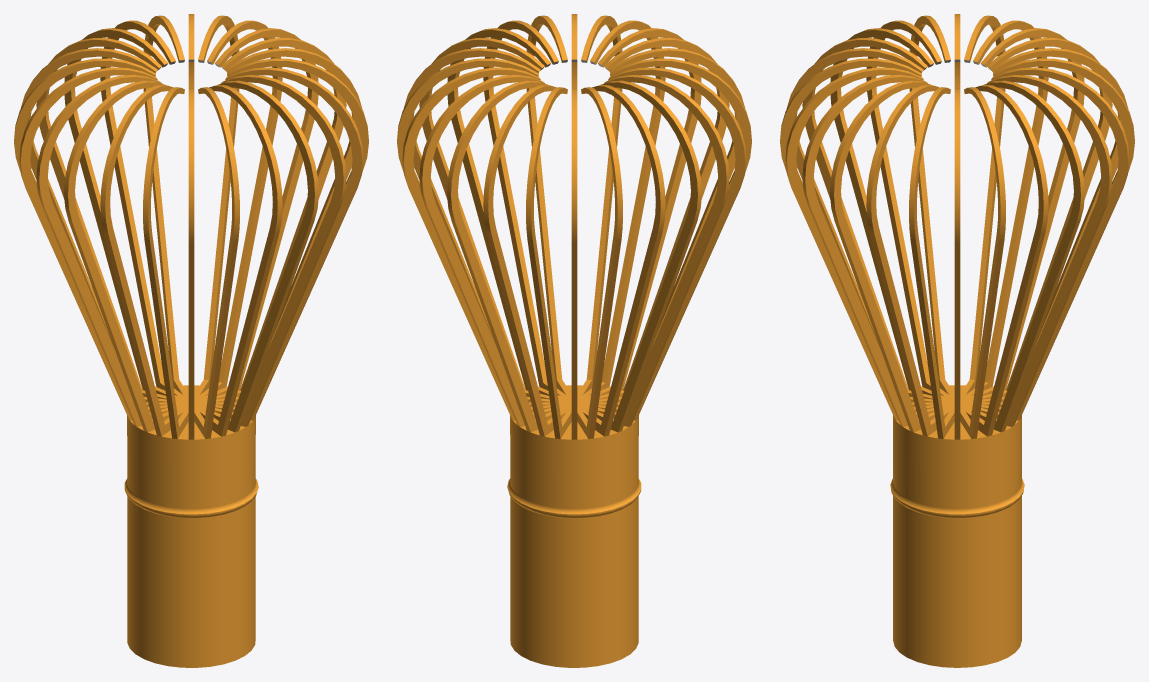
3 renders of one model, left to right at view 1: azimuth 30°, elevation 25°; view 2: azimuth 150°, elevation 25°; view 3: azimuth 270°, elevation 25°, orthographic.
Parts seen in each view (by area): view 1: ソリッド1; view 2: ソリッド1; view 3: ソリッド1.
Part boxes in pixels (x1,y1,x2,y2): ソリッド1: (14,14,368,667); ソリッド1: (397,14,751,667); ソリッド1: (780,14,1134,667).
Bounding box in the file's own units: 63.4 × 115 × 63.4.
